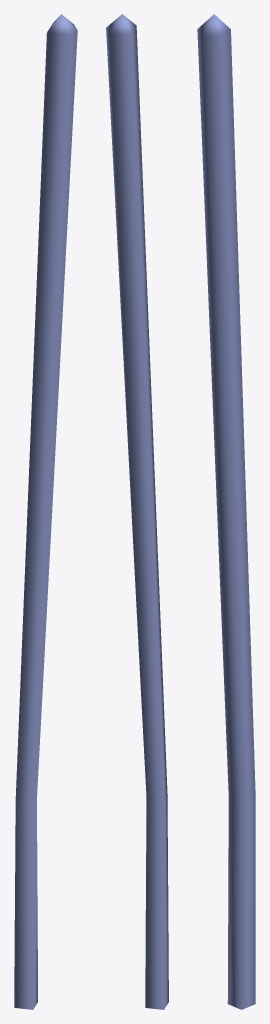
File: Copie de Copie de Ressort fil Heure^Horloge Comtoise Verge - Sonnerie.obj
The picture shows the model from 3 angles, left to right: view 1: azimuth 30°, elevation 25°; view 2: azimuth 210°, elevation 25°; view 3: azimuth 270°, elevation 25°; orthographic projection.
Visible parts, largest first — view 1: Face_3, Face_2, Face_4; view 2: Face_3, Face_2, Face_4; view 3: Face_3, Face_2, Face_4.
Boxes of the visible parts, box(x1,y1,x2,y2) form: Face_3: box(15, 30, 77, 799); Face_2: box(14, 799, 37, 1009); Face_4: box(47, 14, 77, 35); Face_3: box(106, 26, 167, 802); Face_2: box(145, 794, 168, 1009); Face_4: box(106, 14, 136, 34); Face_3: box(197, 29, 255, 799); Face_2: box(227, 794, 255, 1009); Face_4: box(197, 14, 230, 35).
Size of the model in its own units: 0.00478 by 0.0954 by 0.00503.
